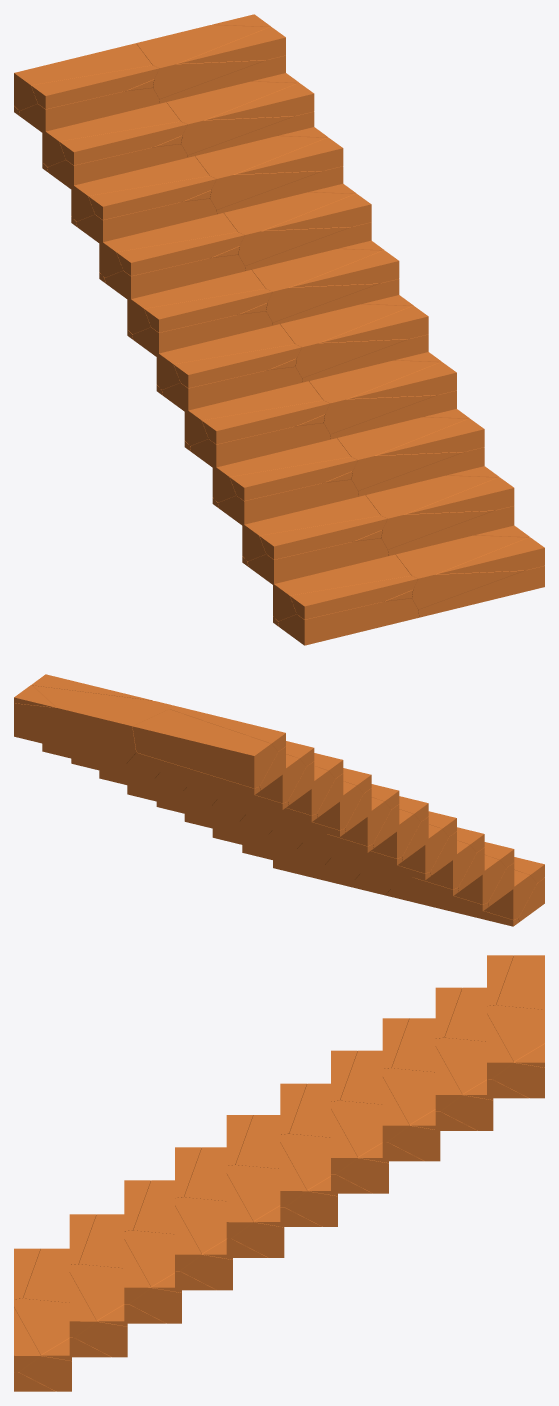
The model's file is Ladder.fbx.
The picture shows the model from 3 angles, top to bottom: view 1: azimuth 30°, elevation 25°; view 2: azimuth 150°, elevation 25°; view 3: azimuth 270°, elevation 25°; orthographic projection. The views are drawn at different scales.
Parts seen in each view (by area): view 1: Cube.002_cell.100, Cube.002_cell.020, Cube.002_cell.028, Cube.002_cell.060, Cube.002_cell.084, Cube.002_cell.052, Cube.002_cell.092, Cube.002_cell.076, Cube.002_cell.068, Cube.002_cell.036, Cube.002_cell.097, Cube.002_cell.007 (+48 smaller); view 2: Cube.002_cell.100, Cube.002_cell.097, Cube.002_cell.096, Cube.002_cell.095, Cube.002_cell.064, Cube.002_cell.032, Cube.002_cell.017, Cube.002_cell.025, Cube.002_cell.065, Cube.002_cell.036, Cube.002_cell.068, Cube.002_cell.033 (+40 smaller); view 3: Cube.002_cell.100, Cube.002_cell.020, Cube.002_cell.028, Cube.002_cell.060, Cube.002_cell.084, Cube.002_cell.052, Cube.002_cell.076, Cube.002_cell.092, Cube.002_cell.036, Cube.002_cell.068, Cube.002_cell.097, Cube.002_cell.017 (+28 smaller).
Boxes of the visible parts, <box> form: Cube.002_cell.100: <box>136,24,270,98</box>; Cube.002_cell.020: <box>395,535,528,609</box>; Cube.002_cell.028: <box>365,475,497,549</box>; Cube.002_cell.060: <box>280,304,413,377</box>; Cube.002_cell.084: <box>195,135,327,209</box>; Cube.002_cell.052: <box>309,360,440,434</box>; Cube.002_cell.092: <box>166,81,297,155</box>; Cube.002_cell.076: <box>224,192,355,265</box>; Cube.002_cell.068: <box>252,248,382,322</box>; Cube.002_cell.036: <box>337,417,469,490</box>; Cube.002_cell.097: <box>14,43,153,110</box>; Cube.002_cell.007: <box>278,598,419,645</box>; Cube.002_cell.100: <box>14,685,171,763</box>; Cube.002_cell.097: <box>132,709,277,788</box>; Cube.002_cell.096: <box>127,752,260,795</box>; Cube.002_cell.095: <box>170,705,285,751</box>; Cube.002_cell.064: <box>240,814,373,852</box>; Cube.002_cell.032: <box>325,857,458,896</box>; Cube.002_cell.017: <box>484,870,536,919</box>; Cube.002_cell.025: <box>454,855,506,904</box>; Cube.002_cell.065: <box>331,797,391,846</box>; Cube.002_cell.036: <box>212,828,330,864</box>; Cube.002_cell.068: <box>127,785,245,821</box>; Cube.002_cell.033: <box>417,840,476,889</box>; Cube.002_cell.100: <box>487,1005,544,1098</box>; Cube.002_cell.020: <box>14,1298,71,1391</box>; Cube.002_cell.028: <box>69,1264,127,1357</box>; Cube.002_cell.060: <box>226,1165,284,1257</box>; Cube.002_cell.084: <box>382,1068,440,1161</box>; Cube.002_cell.052: <box>175,1197,232,1290</box>; Cube.002_cell.076: <box>331,1100,388,1193</box>; Cube.002_cell.092: <box>435,1037,493,1130</box>; Cube.002_cell.036: <box>124,1230,181,1323</box>; Cube.002_cell.068: <box>280,1134,337,1226</box>; Cube.002_cell.097: <box>496,955,544,1009</box>; Cube.002_cell.017: <box>22,1248,69,1302</box>.
Size of the model in its own units: 200 by 286 by 419.
